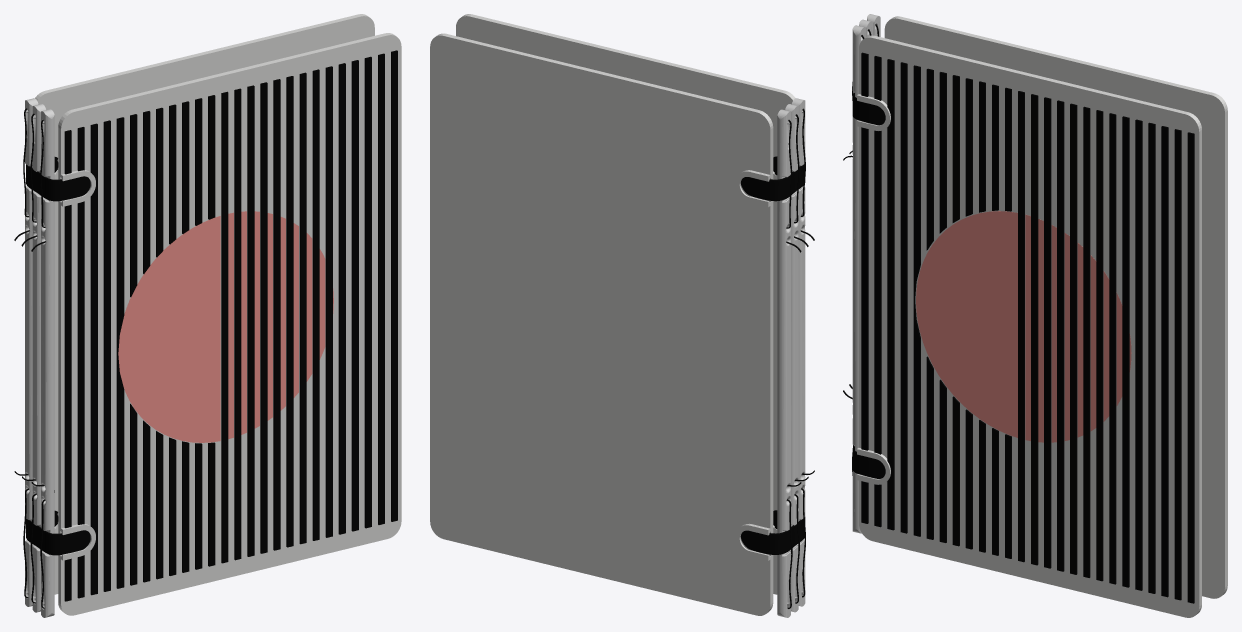
3 renders of one model, left to right at view 1: azimuth 30°, elevation 25°; view 2: azimuth 150°, elevation 25°; view 3: azimuth 330°, elevation 25°, orthographic.
Parts seen in each view (by area): view 1: Body1, Body41, Body1.003, Body1.001, Body2, Body3 (1), Body10, Body14, Body21, Body23, Body26, Body27 (+37 smaller); view 2: Body1.003, Body1, Body3, Body2, Body1.001, Body1.002, Body4; view 3: Body1, Body1.003, Body41, Body12, Body13, Body23, Body28, Body6, Body7, Body11, Body21, Body29 (+35 smaller).
Boxes of the visible parts, x1,y1,x2,y2 form: Body1: (58,33,401,615); Body41: (118,216,220,442); Body1.003: (35,14,374,594); Body1.001: (41,109,54,617); Body2: (32,104,46,612); Body3 (1): (116,117,124,588); Body10: (234,88,241,560); Body14: (103,120,110,591); Body21: (364,56,371,528); Body23: (260,82,267,553); Body26: (221,91,228,563); Body27: (273,79,280,550); Body1.003: (430,33,773,615); Body1: (456,14,795,594); Body3: (777,109,790,617); Body2: (785,104,798,612); Body1.001: (792,98,805,606); Body1.002: (740,510,805,554); Body4: (740,157,805,201); Body1: (857,35,1201,617); Body1.003: (884,16,1227,598); Body41: (916,211,1017,437); Body12: (1135,119,1142,590); Body13: (1187,132,1194,603); Body23: (1057,100,1064,571); Body28: (1122,116,1129,587); Body6: (1096,110,1103,581); Body7: (1044,97,1051,568); Body11: (1083,106,1090,577); Body21: (1161,126,1168,597); Body29: (1174,129,1181,600).
Bounding box in the file's own units: 0.1605 × 0.2129 × 0.0252.
